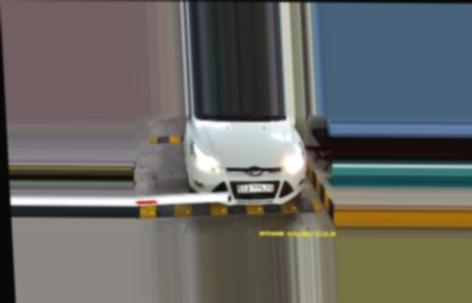License_Plate: (233, 180, 274, 195)
